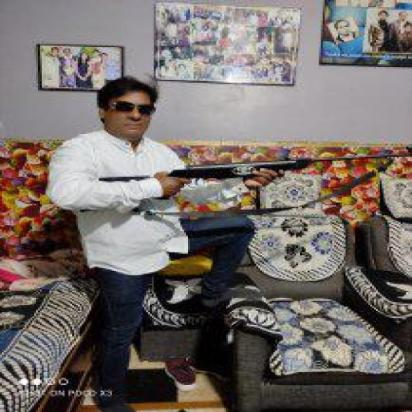Gun: (76, 146, 410, 218)
